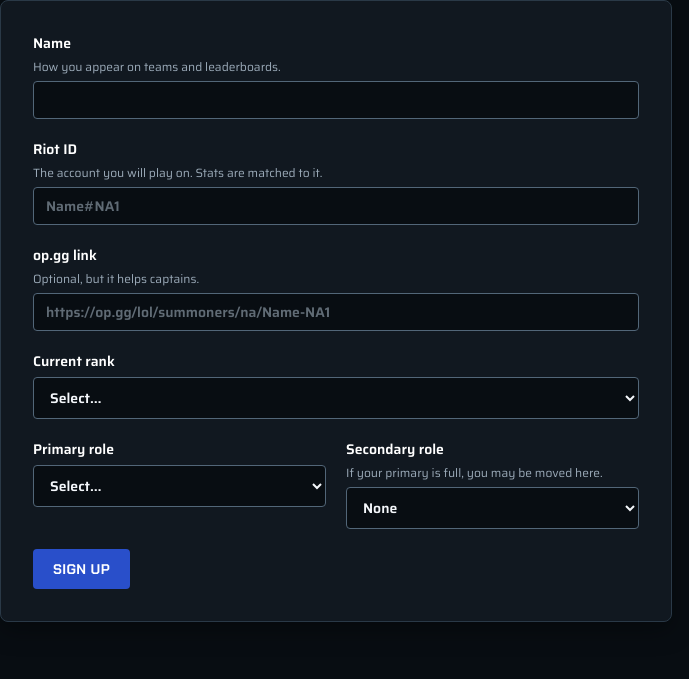
Test: OffseasonSignupForm › checks the form before sending it
The width and height of the screenshot is (689, 679).
Click the button "Sign up" at (82, 569), box left=33, top=549, right=130, bottom=589
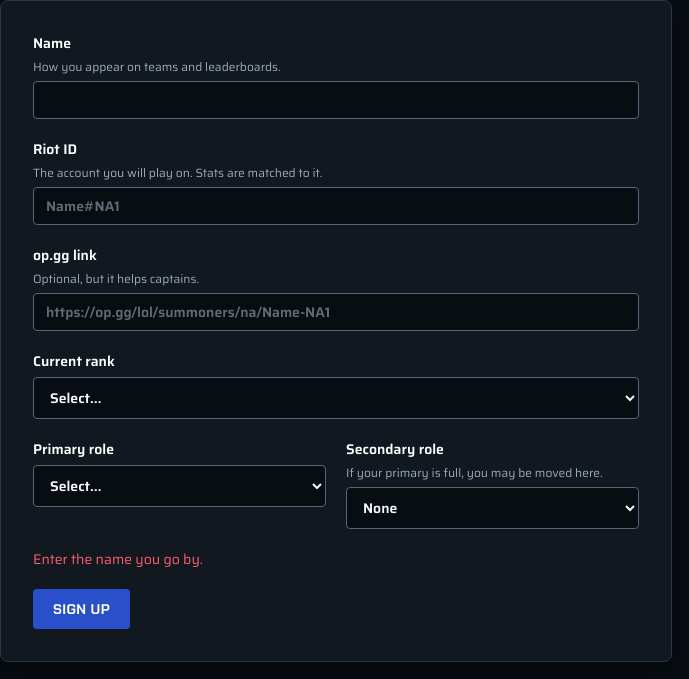
Result: the message shows "name" at left=33, top=548, right=203, bottom=570
